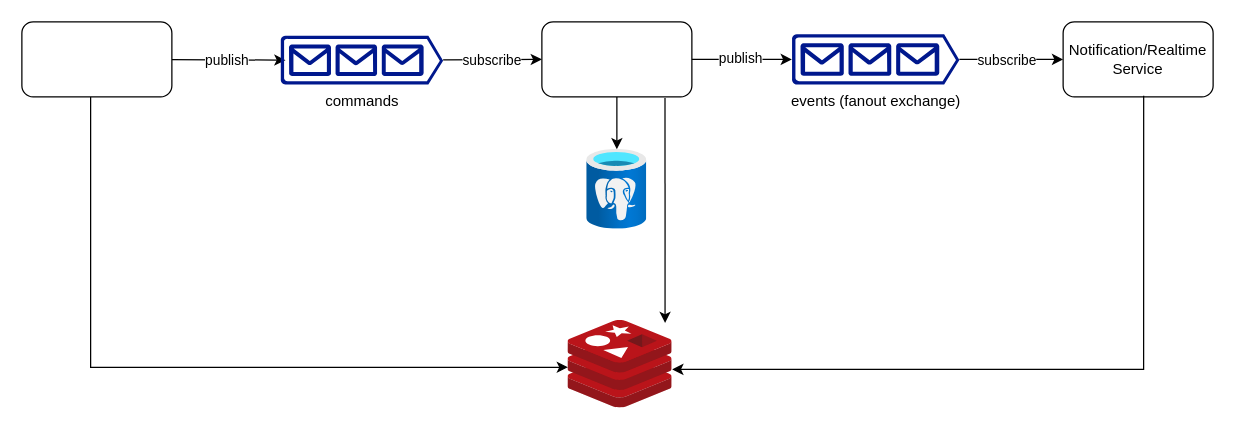
The diagram is 1235 pixels wide and 430 high, and some of its shapes have lost their labels. The shapes that lost their labels are listed below. From the top down, each one's box as (x1, y1, x2, y2) in pixels, then its label:
(21, 21, 172, 97): Reservation Service
(541, 21, 692, 97): Booking Service
